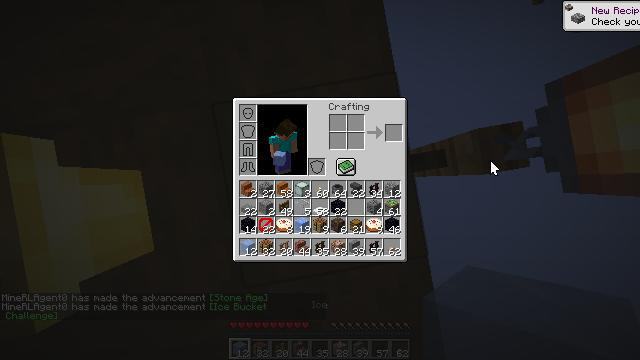cursor: (490, 160, 500, 176)
